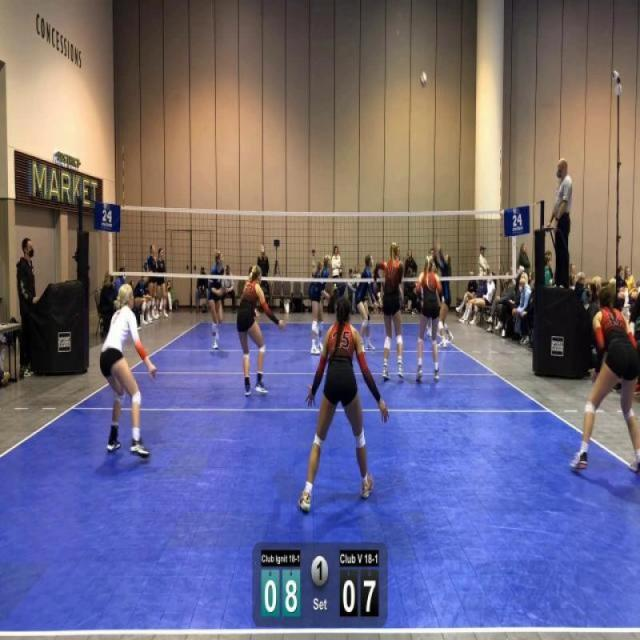volleyball: (419, 70, 428, 90)
